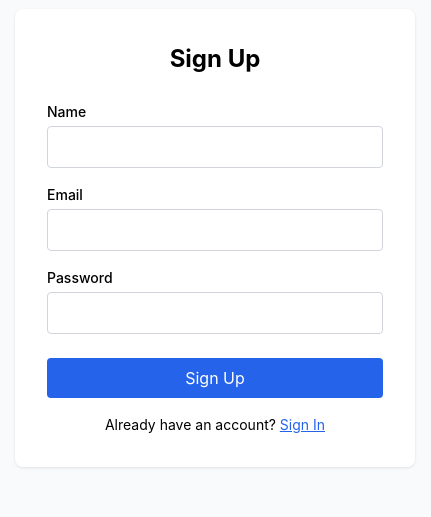
SignUp › shows error on failure
Type "John Doe" into the field labelled "Name" at [215, 147], box [47,126,383,168]
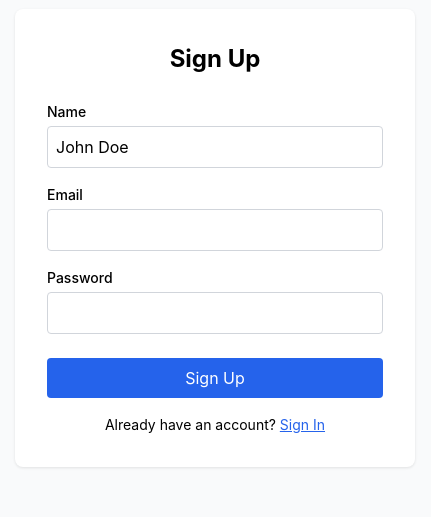
Type "john@example.com" into the field labelled "Email" at [215, 230], box [47,209,383,251]
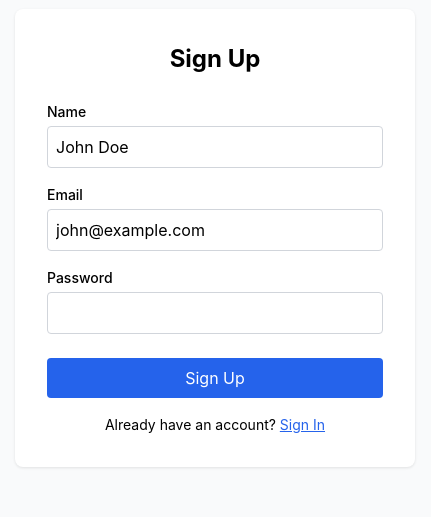
Type "password123" into the password field labelled "Password" at [215, 313], box [47,292,383,334]
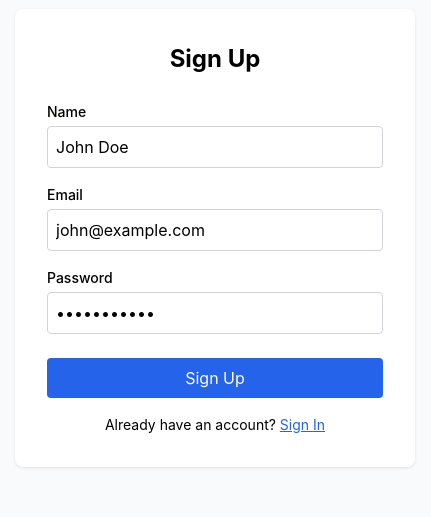
Click the button "Sign Up" at [215, 378], box [47,358,383,398]
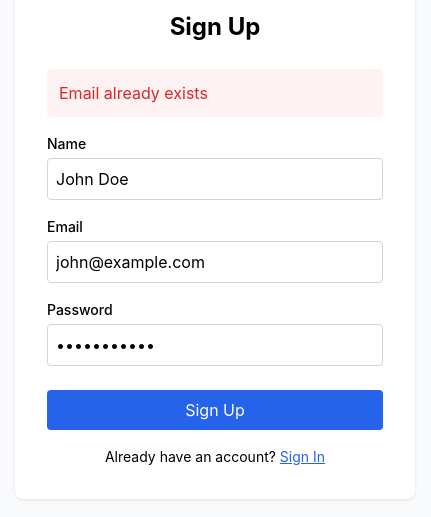
expect the text "Email already exists" is shown: met, box [47,69,383,117]
